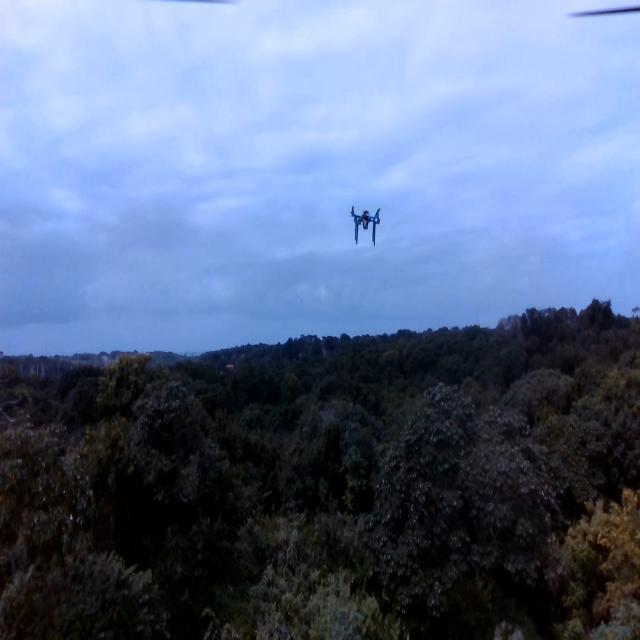-uav-: (349, 193, 386, 250)
